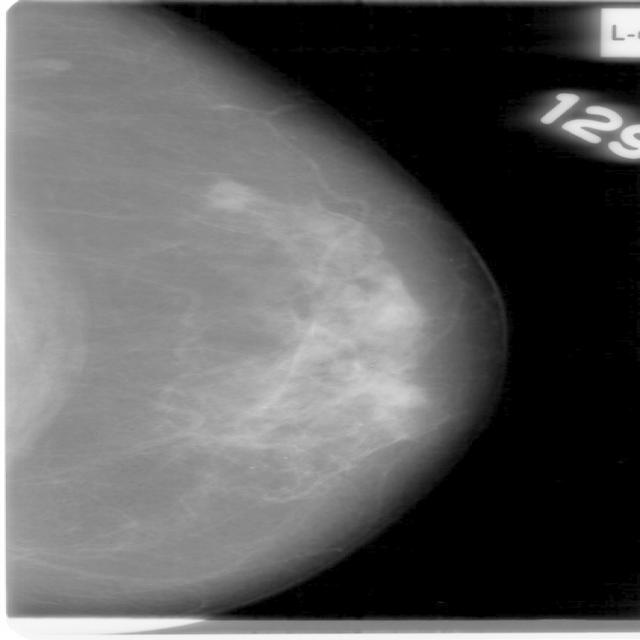tumour: (202, 179, 250, 210)
